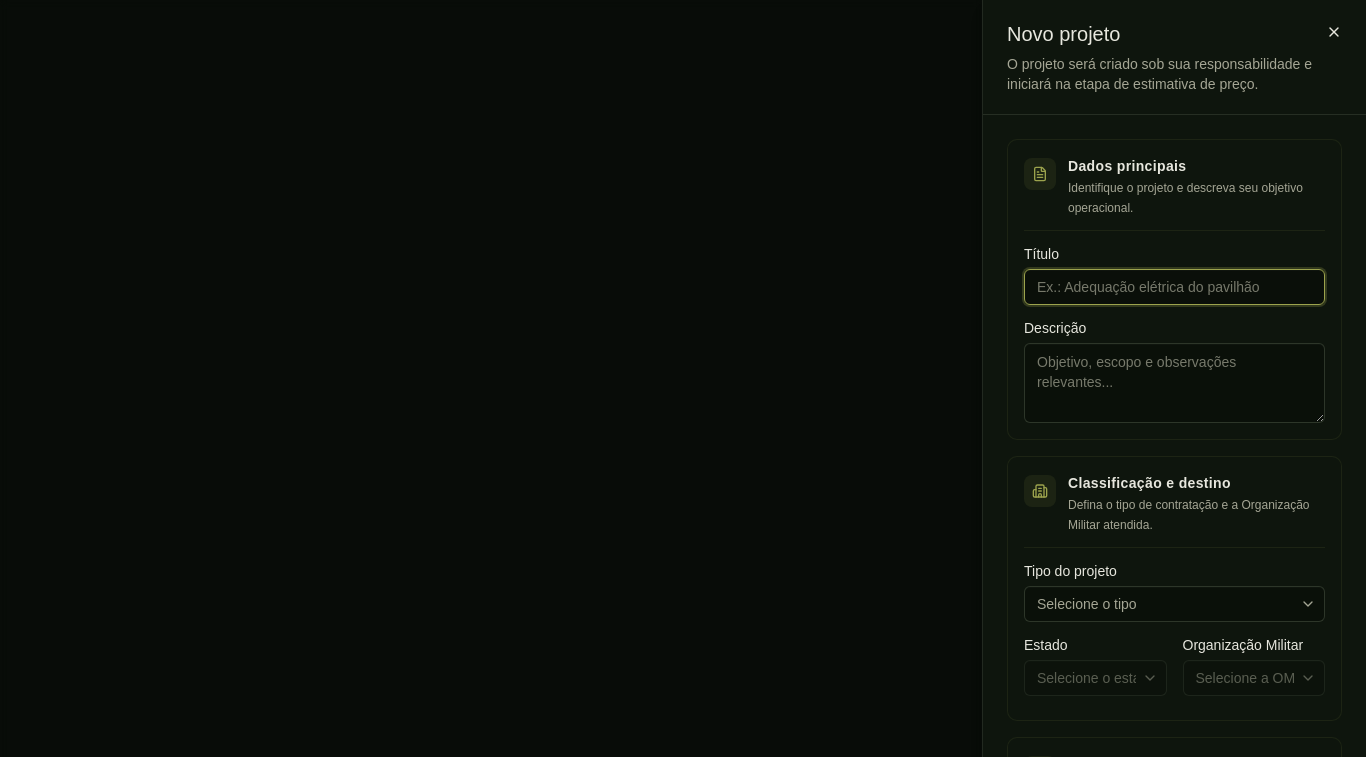
it: ProjectFormSheet › informa quando o estado não possui OM ativa
The width and height of the screenshot is (1366, 757).
Click the dropdown named "Tipo do projeto": (1087,604) [1024,586,1325,622]
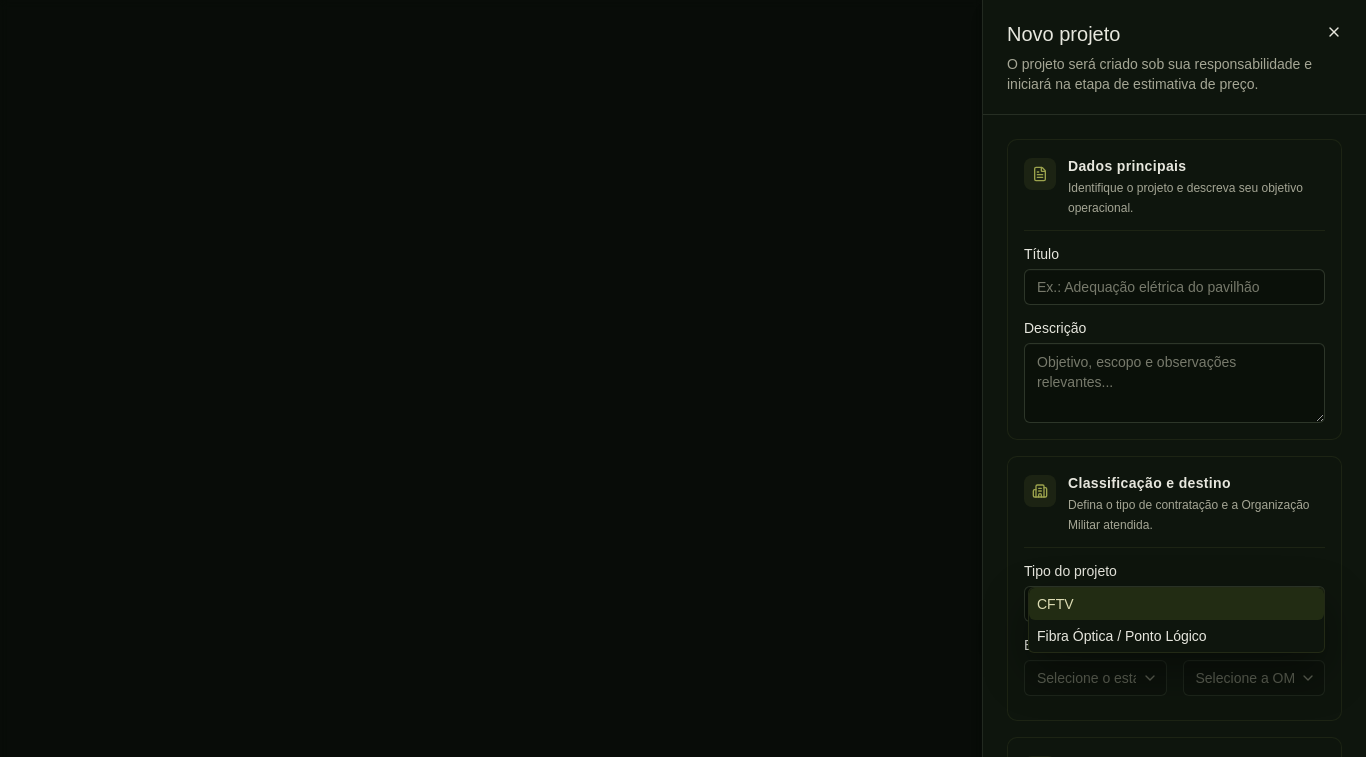
Click the option "Fibra Óptica / Ponto Lógico": (1122,636) [1037,628,1207,644]
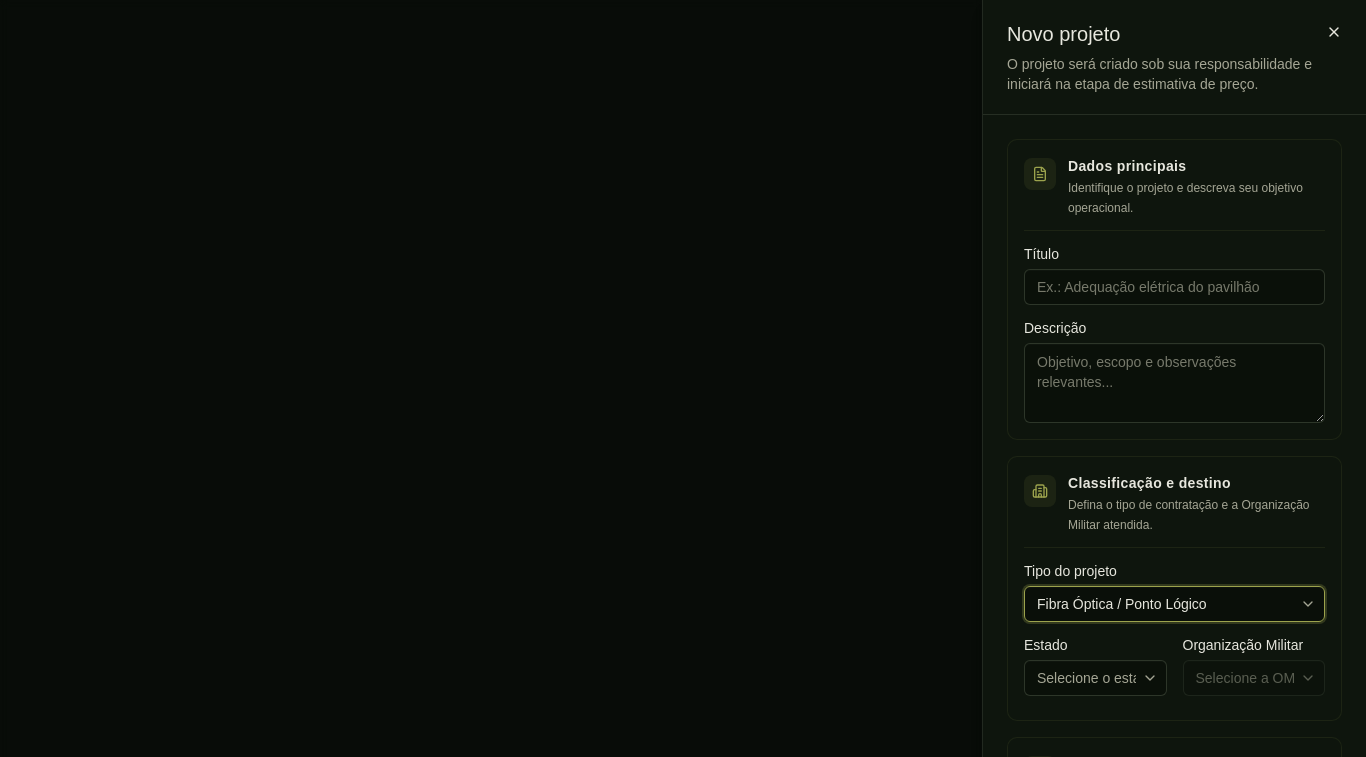
Click the dropdown labelled "estado": (1095,678) [1024,660,1166,696]
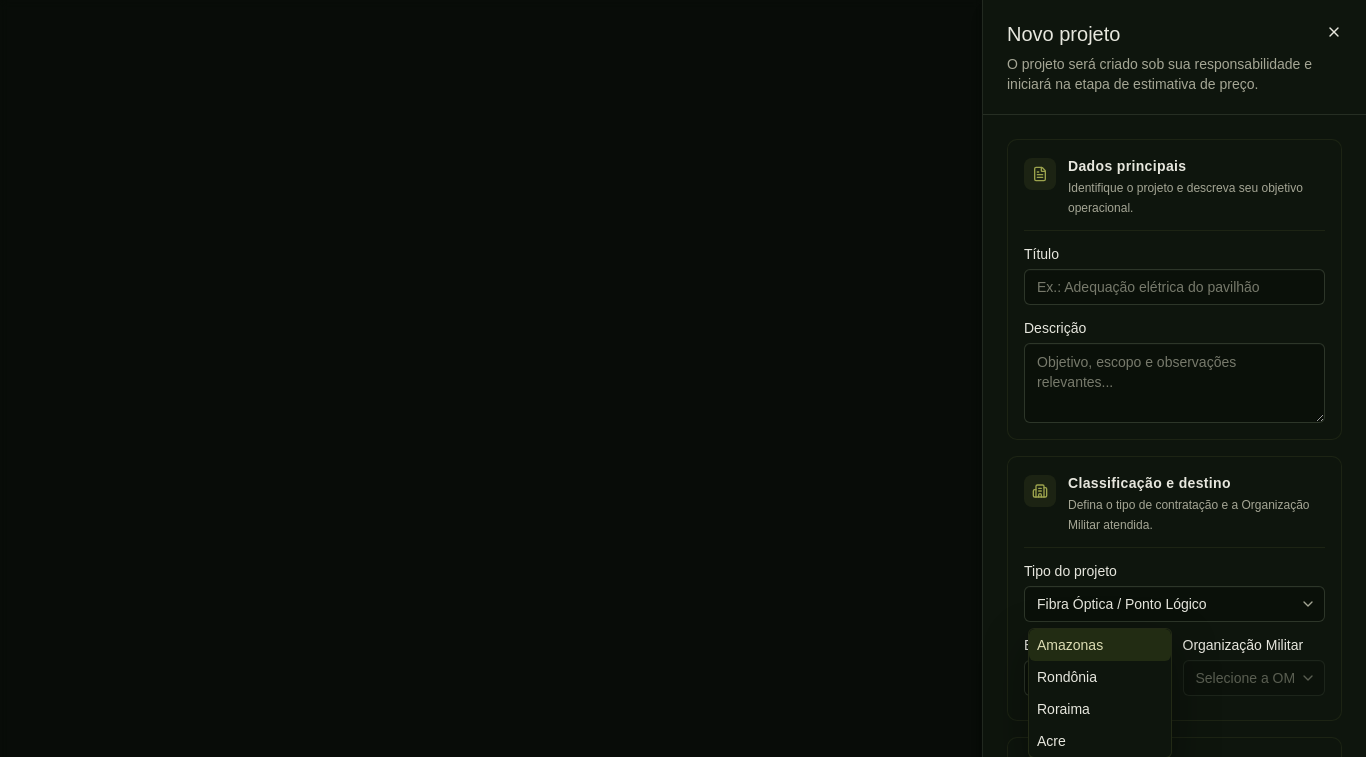
Click the option "Acre": (1051,741) [1037,733,1066,749]
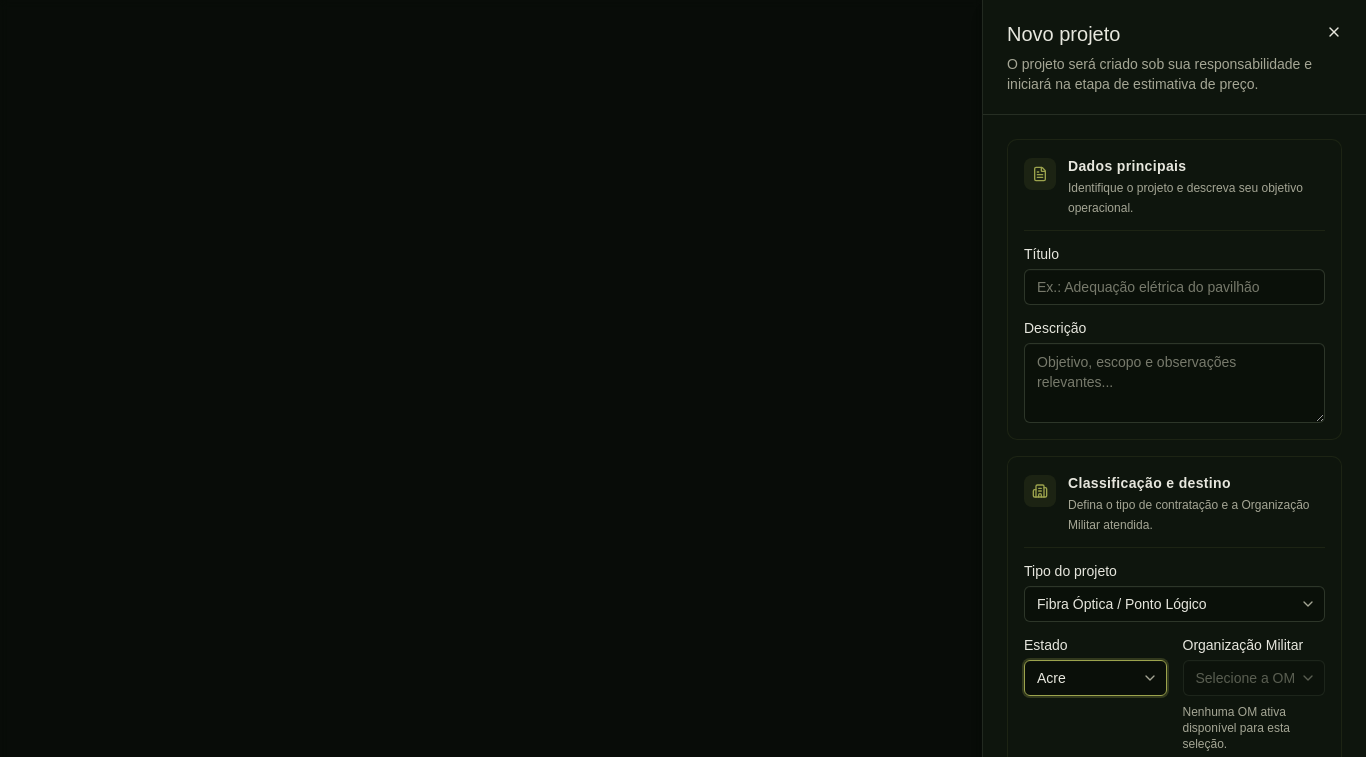
Expected: the dropdown named "Organização Militar" is disabled, [1182,660,1325,696]
Expected: the text "Nenhuma OM ativa disponível para esta seleção." is shown, [1182,705,1290,751]
